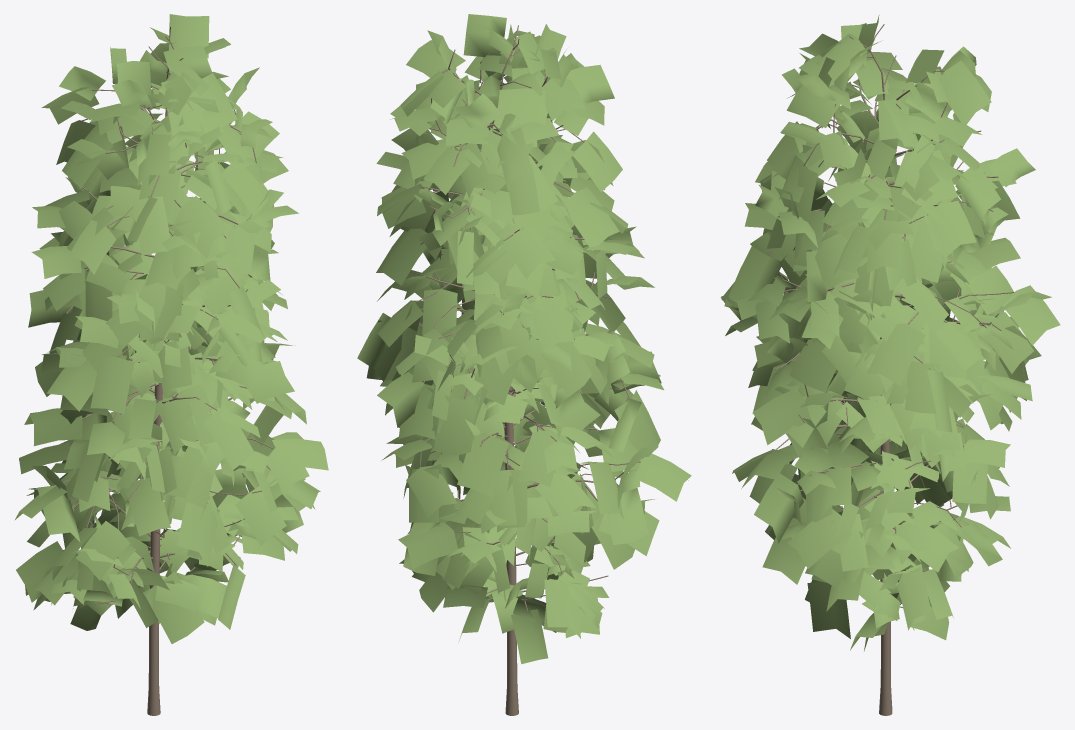
The model's file is Birch_12_young_lod0.glb.
The picture shows the model from 3 angles, left to right: view 1: azimuth 30°, elevation 25°; view 2: azimuth 150°, elevation 25°; view 3: azimuth 270°, elevation 25°; orthographic projection. The views are drawn at different scales.
Visible parts, largest first — view 1: Birch_12_young_lod0; view 2: Birch_12_young_lod0; view 3: Birch_12_young_lod0.
Boxes of the visible parts, x1,y1,x2,y2 form: Birch_12_young_lod0: (14, 14, 328, 715); Birch_12_young_lod0: (357, 14, 691, 715); Birch_12_young_lod0: (720, 15, 1060, 715).
Bounding box in the file's own units: 4.04 × 9.01 × 4.04.
